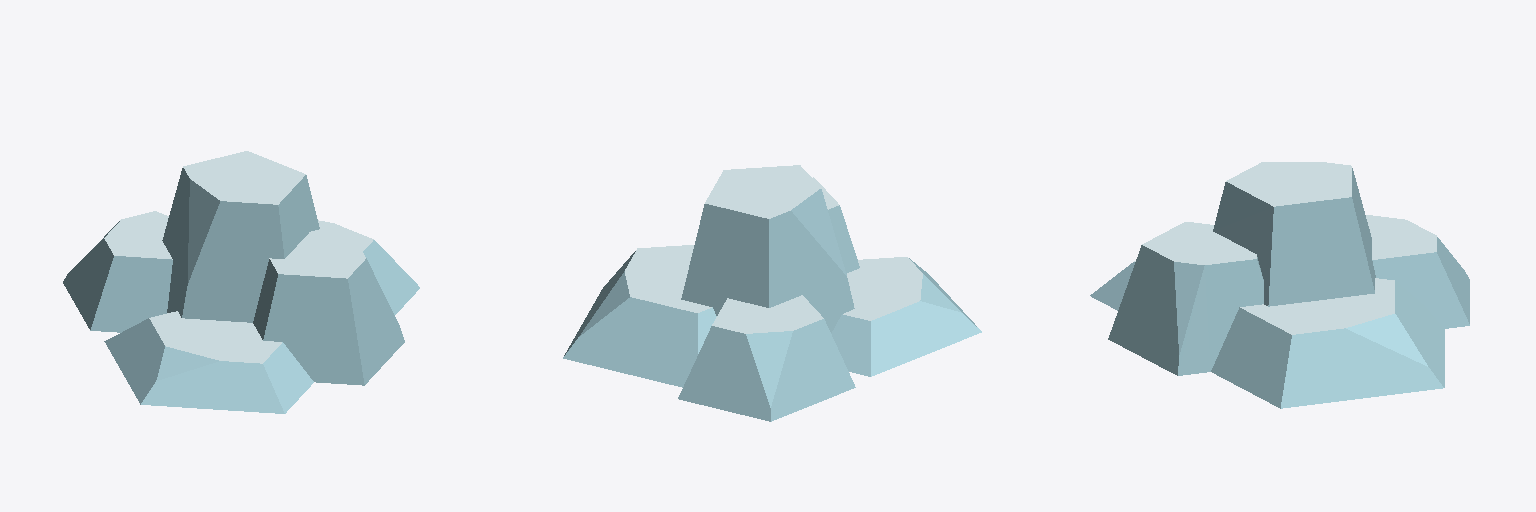
The model's file is snow_tile_hill.obj.
3 renders of one model, left to right at view 1: azimuth 30°, elevation 25°; view 2: azimuth 150°, elevation 25°; view 3: azimuth 270°, elevation 25°, orthographic.
Visible parts, largest first — view 1: rocks; view 2: rocks; view 3: rocks.
Boxes of the visible parts, <box> form: rocks: <box>63,151,419,413</box>; rocks: <box>563,165,981,421</box>; rocks: <box>1090,162,1469,408</box>.
Bounding box in the file's own units: 1 × 0.4186 × 1.